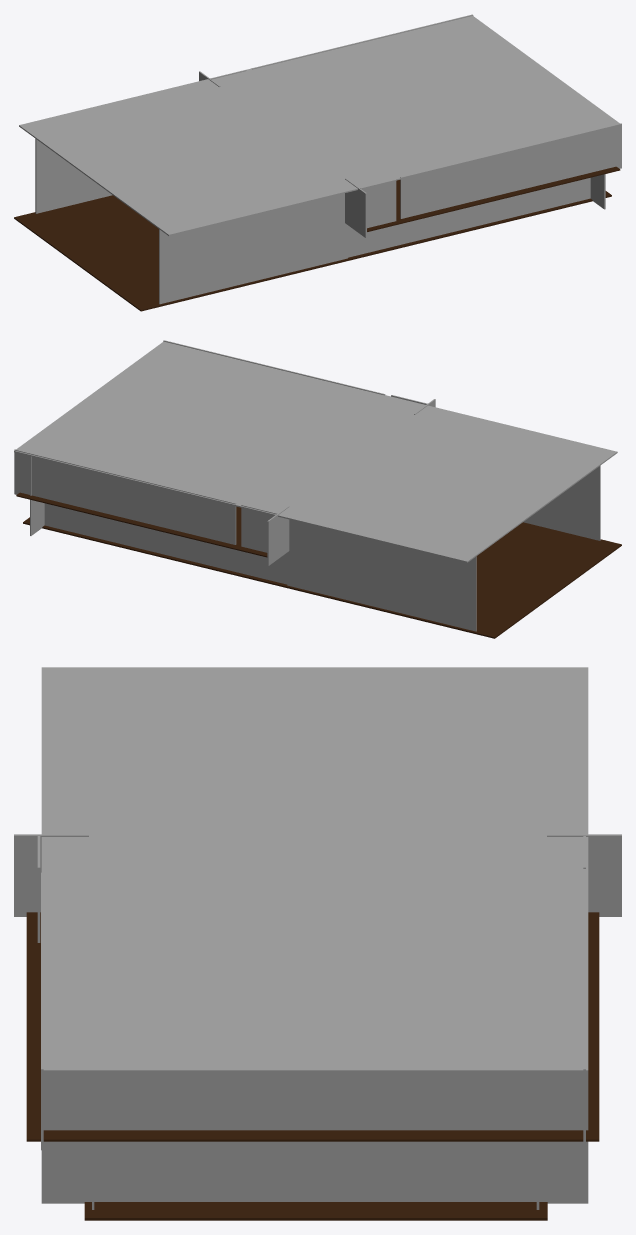
The picture shows the model from 3 angles, top to bottom: view 1: azimuth 30°, elevation 25°; view 2: azimuth 150°, elevation 25°; view 3: azimuth 270°, elevation 25°; orthographic projection. The views are drawn at different scales.
Visible parts, largest first — view 1: pCube6, pCube7, ground, pCube2, pCube3, pCube8, boven_ground, pCube11, pCube12, pCube5, pCube1; view 2: pCube6, pCube8, ground, pCube1, pCube4, pCube7, boven_ground, pCube9, pCube10, pCube5, pCube2; view 3: pCube6, pCube5, boven_ground, ground, pCube10, pCube12, pCube1, pCube2.
Boxes of the visible parts, left/top/right/bottom form: pCube6: left=19, top=16, right=619, bottom=235; pCube7: left=159, top=193, right=347, bottom=304; ground: left=14, top=191, right=611, bottom=311; pCube2: left=400, top=123, right=621, bottom=218; pCube3: left=348, top=178, right=590, bottom=257; pCube8: left=35, top=138, right=112, bottom=213; boven_ground: left=367, top=166, right=620, bottom=231; pCube11: left=360, top=179, right=396, bottom=228; pCube12: left=345, top=178, right=366, bottom=237; pCube5: left=590, top=174, right=605, bottom=209; pCube1: left=251, top=14, right=473, bottom=69; pCube6: left=14, top=341, right=617, bottom=562; pCube8: left=287, top=519, right=476, bottom=631; ground: left=23, top=517, right=621, bottom=638; pCube1: left=14, top=449, right=236, bottom=544; pCube4: left=44, top=503, right=287, bottom=584; pCube7: left=523, top=465, right=600, bottom=540; boven_ground: left=16, top=492, right=267, bottom=557; pCube9: left=241, top=504, right=277, bottom=552; pCube10: left=267, top=506, right=289, bottom=565; pCube5: left=30, top=455, right=44, bottom=535; pCube2: left=163, top=340, right=385, bottom=395; pCube6: left=41, top=667, right=588, bottom=1072; pCube5: left=41, top=1072, right=588, bottom=1203; boven_ground: left=26, top=912, right=599, bottom=1141; ground: left=84, top=1202, right=547, bottom=1220; pCube10: left=547, top=834, right=621, bottom=916; pCube12: left=14, top=834, right=88, bottom=916; pCube1: left=583, top=872, right=585, bottom=1150; pCube2: left=41, top=872, right=43, bottom=1150.
Size of the model in its own units: 182 by 30.32 by 111.
